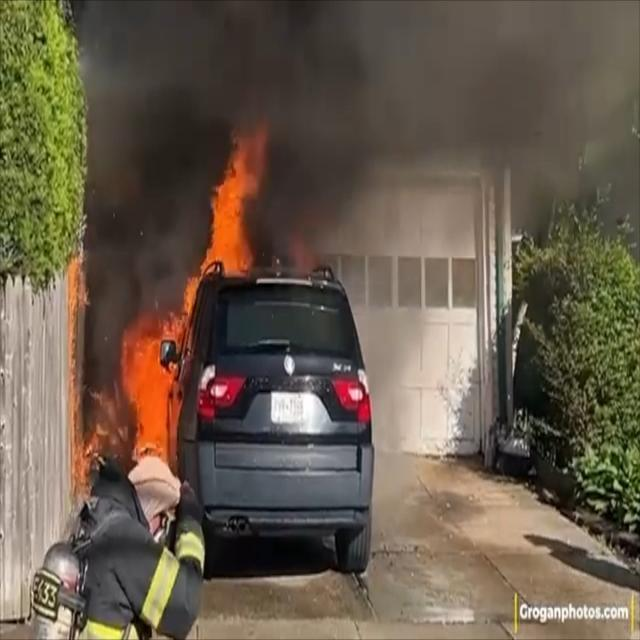fire: (68, 118, 269, 485)
